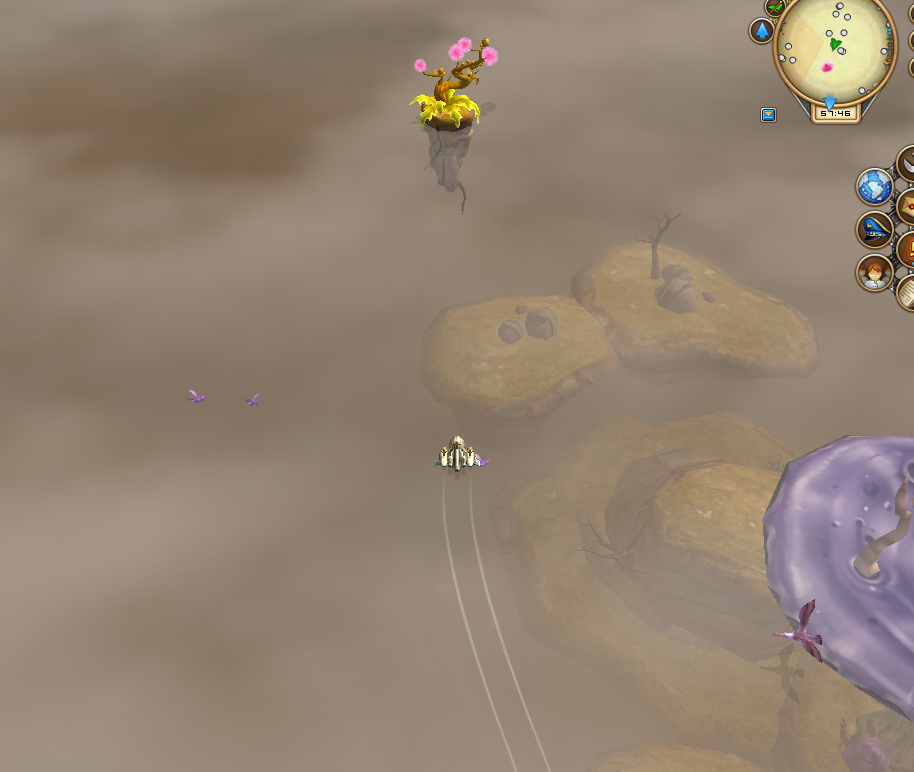dandelion-full: (404, 28, 501, 194)
